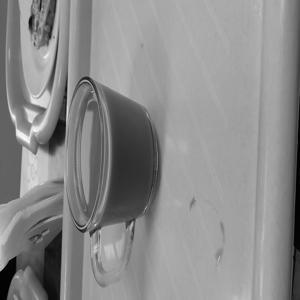coffee: (57, 68, 169, 290)
